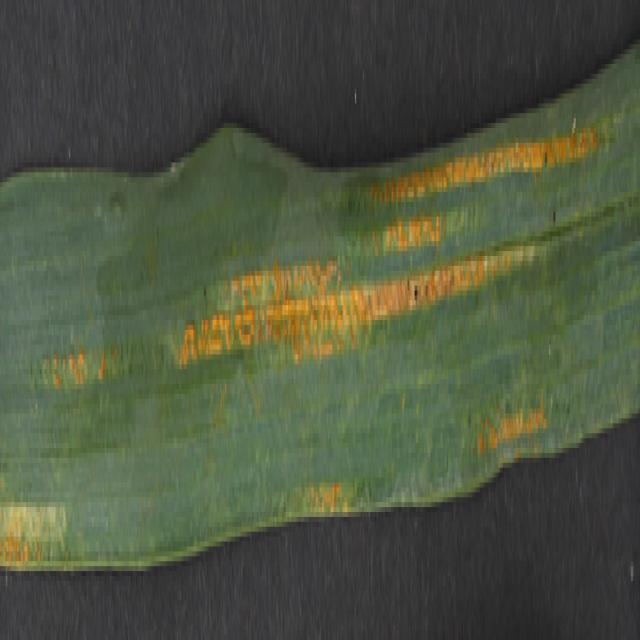leaf rust: (176, 99, 613, 507), (1, 246, 112, 576)
